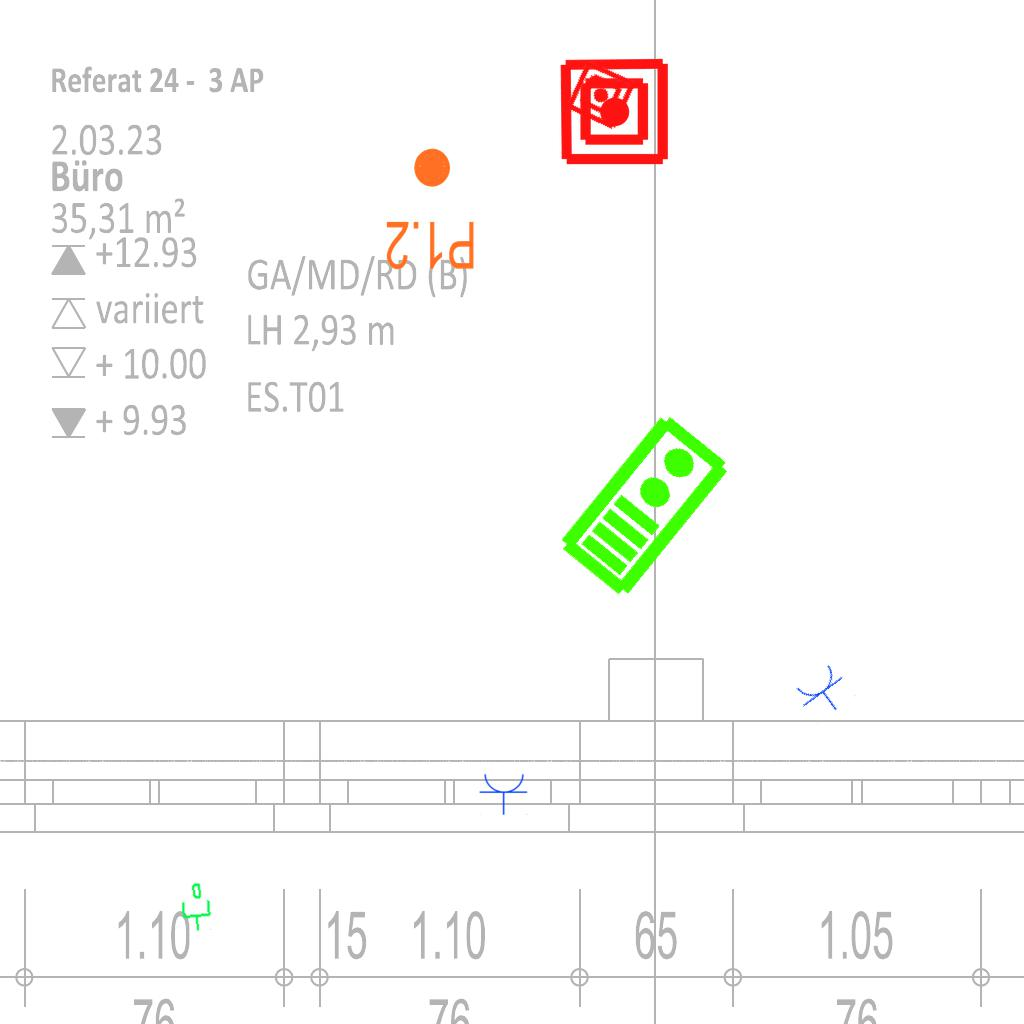Datenanschluss_einfach: (175, 880, 215, 934)
Downlight_LED_Einbauleuchten_Flur: (384, 145, 477, 273)
Gegensprechanlage_mit_Video: (551, 405, 736, 603)
NAM-Nichtautomatischer_Melder: (558, 55, 671, 168), (563, 57, 639, 133)
Schukosteckdose_einfach: (791, 660, 857, 725), (479, 772, 529, 815)
